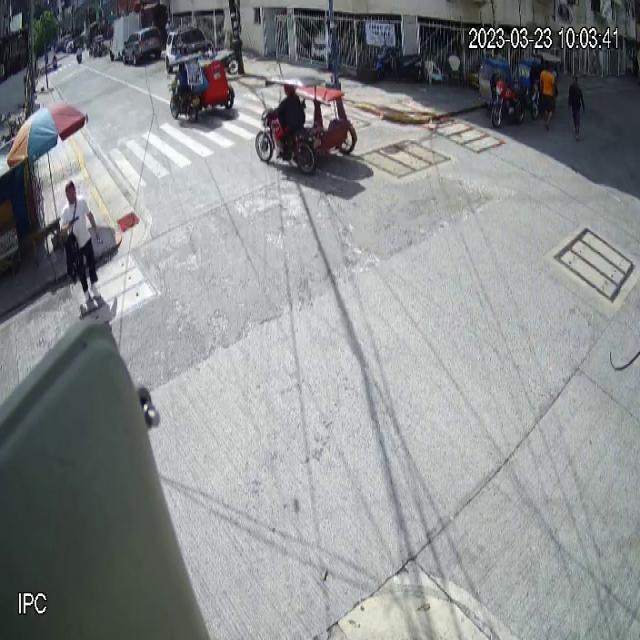Tricycle: (254, 75, 359, 178), (168, 54, 235, 124)
